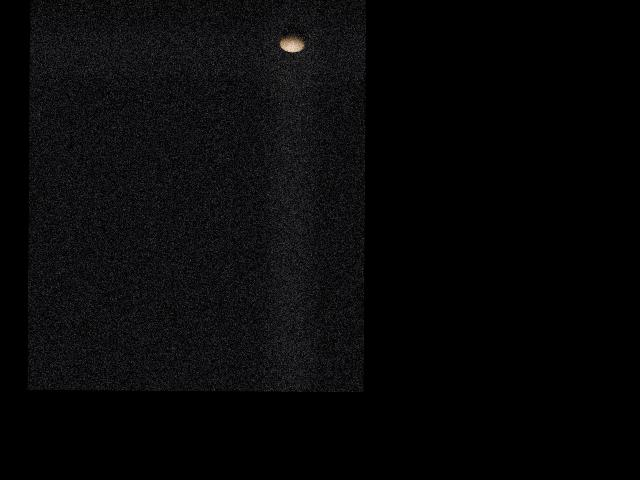egg: (279, 34, 305, 52)
